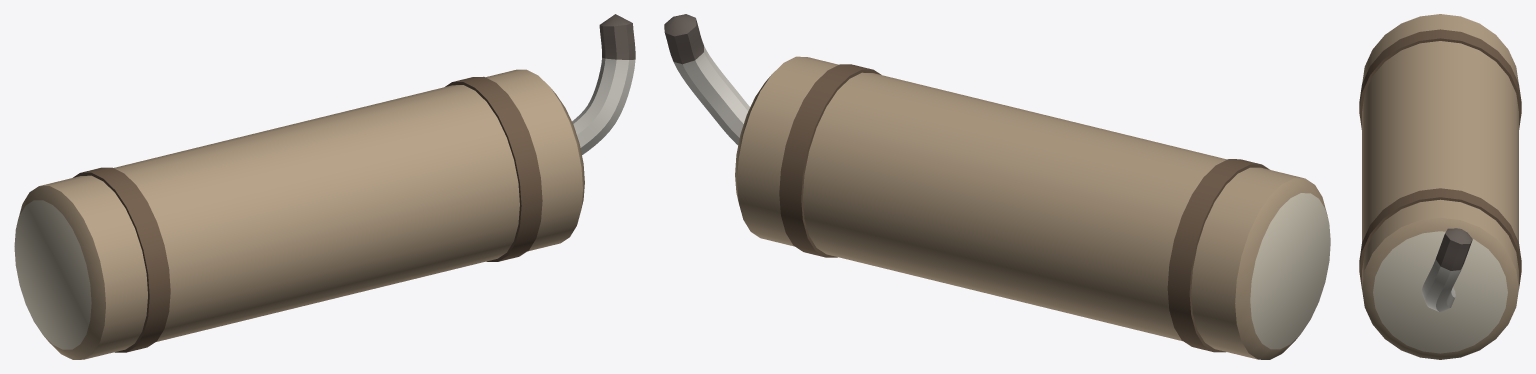
Rendered from dynamite_b_stick_tan.glb.
3 renders of one model, left to right at view 1: azimuth 30°, elevation 25°; view 2: azimuth 150°, elevation 25°; view 3: azimuth 270°, elevation 25°, orthographic. The views are drawn at different scales.
Parts seen in each view (by area): view 1: Dynamite; view 2: Dynamite; view 3: Dynamite.
Part boxes in pixels (bbox=[...]): Dynamite: bbox=[14, 14, 635, 359]; Dynamite: bbox=[664, 14, 1330, 359]; Dynamite: bbox=[1359, 14, 1521, 359].
Size of the model in its own units: 0.6437 by 0.2051 by 0.176.
